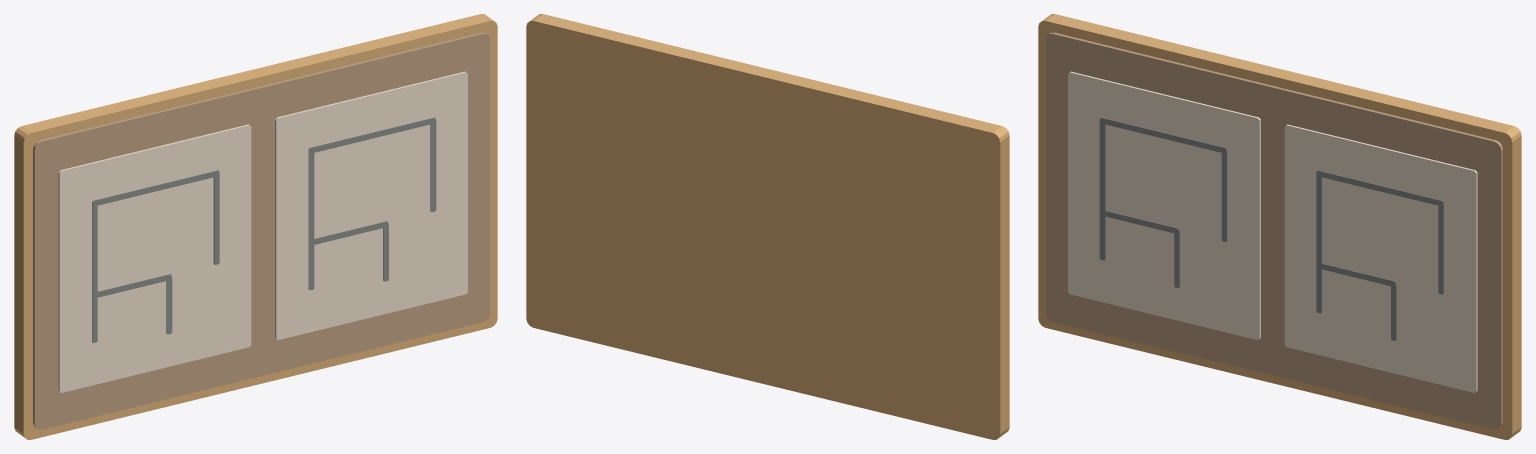
Rendered from kit_project_wall_v1.glb.
The picture shows the model from 3 angles, left to right: view 1: azimuth 30°, elevation 25°; view 2: azimuth 150°, elevation 25°; view 3: azimuth 330°, elevation 25°; orthographic projection.
Parts seen in each view (by area): view 1: body; view 2: body; view 3: body.
Boxes of the visible parts, x1=… form: body: x1=14, y1=14, x2=497, y2=439; body: x1=526, y1=14, x2=1009, y2=439; body: x1=1038, y1=14, x2=1521, y2=439.
Size of the model in its own units: 2.1 by 1.3 by 0.1.
